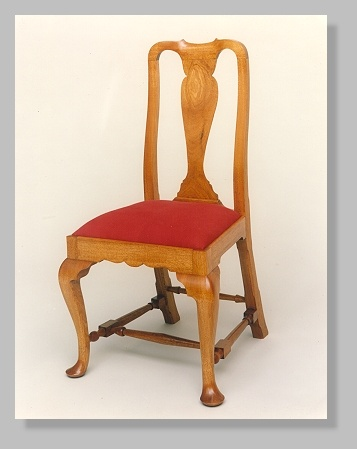obstacle: (59, 39, 267, 406)
